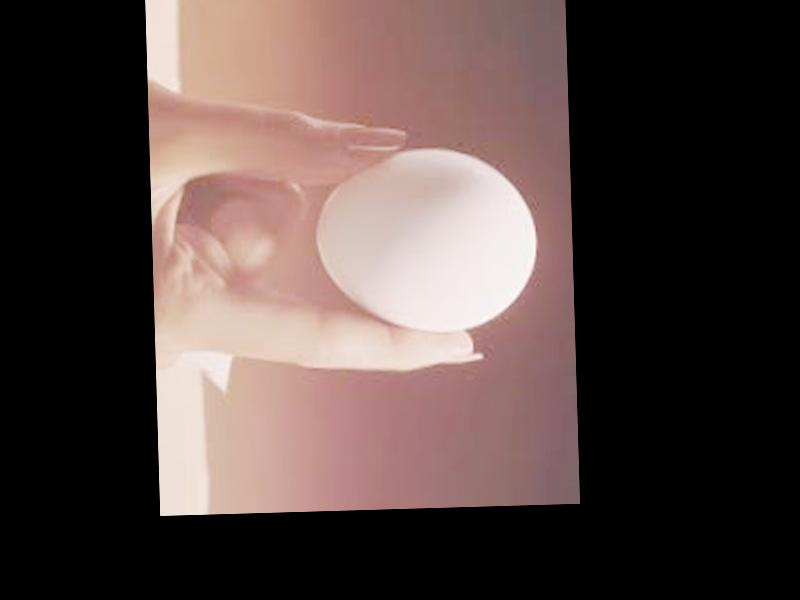Eggs: (311, 142, 537, 335)
